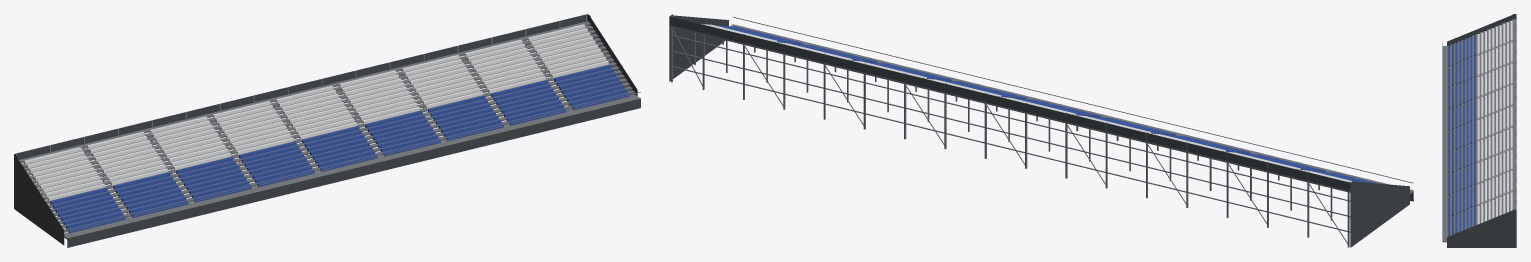
The model's file is rbr_open_schoenberg.glb.
3 renders of one model, left to right at view 1: azimuth 30°, elevation 25°; view 2: azimuth 150°, elevation 25°; view 3: azimuth 270°, elevation 25°, orthographic. The views are drawn at different scales.
Parts seen in each view (by area): view 1: red-bull-ring-schoenberg; view 2: red-bull-ring-schoenberg; view 3: red-bull-ring-schoenberg.
Boxes of the visible parts, x1,y1,x2,y2 form: red-bull-ring-schoenberg: (14,14,640,247); red-bull-ring-schoenberg: (669,14,1413,247); red-bull-ring-schoenberg: (1442,14,1516,247).
Size of the model in its own units: 101 by 9.28 by 16.33.
